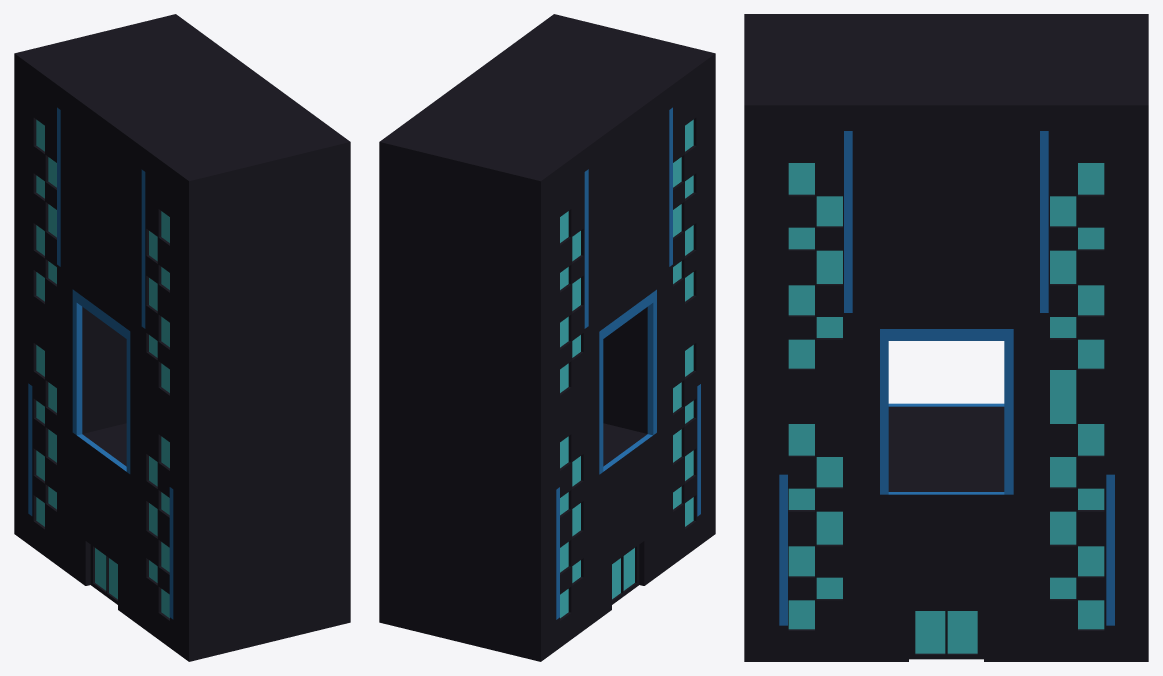
The model's file is FinalBuilding_Big_6.2.fbx.
3 renders of one model, left to right at view 1: azimuth 30°, elevation 25°; view 2: azimuth 150°, elevation 25°; view 3: azimuth 270°, elevation 25°, orthographic. The views are drawn at different scales.
Visible parts, largest first — view 1: Buildings_Big; view 2: Buildings_Big; view 3: Buildings_Big.
Boxes of the visible parts, x1,y1,x2,y2 form: Buildings_Big: [14, 14, 350, 661]; Buildings_Big: [379, 14, 715, 661]; Buildings_Big: [744, 14, 1148, 661].
Bounding box in the file's own units: 11.77 × 33.33 × 21.96.
